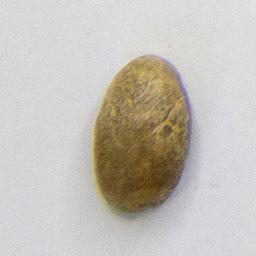longberry: (89, 50, 197, 217)
